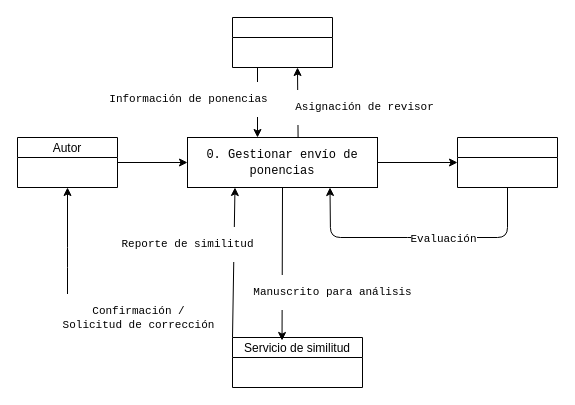
This 575x405 diagram has some shape labels left out. The shapes that lost their labels are listed below. From the top down, each one's centre as x and y in pixels, then its label:
At pixel 282 42: "Comite".
At pixel 507 162: "Revisor".
